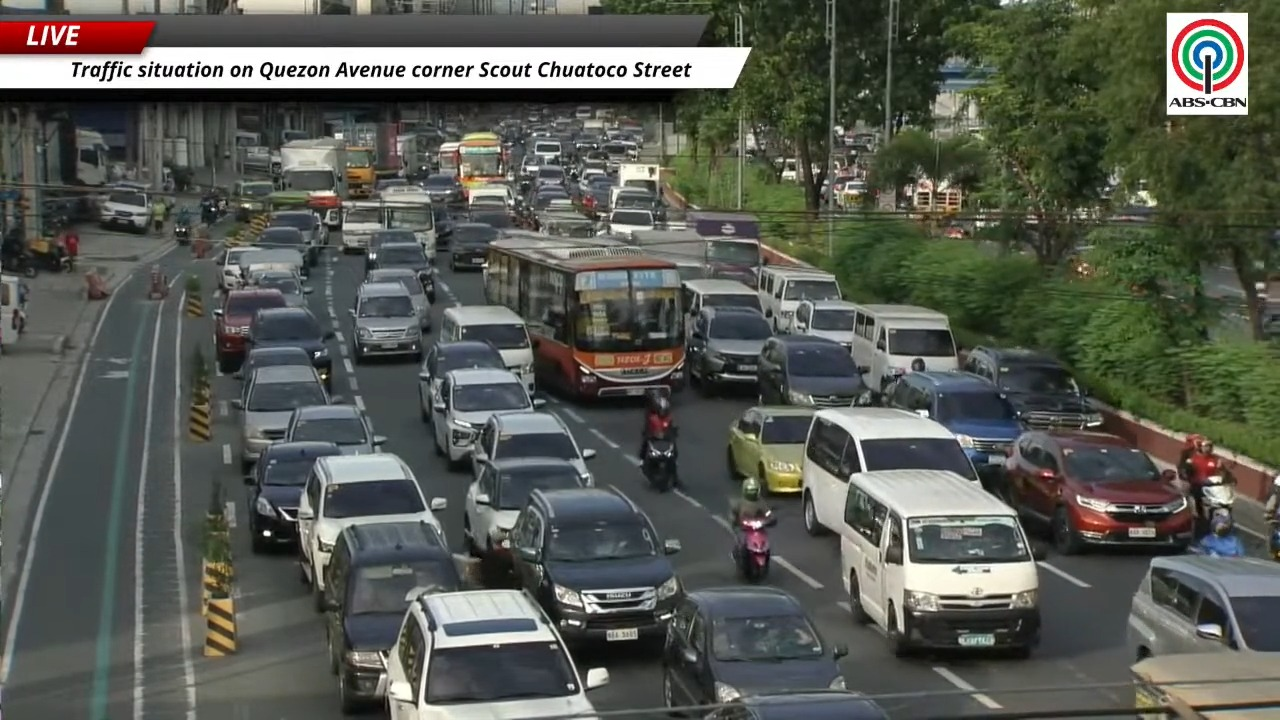bus: (484, 231, 684, 399), (458, 132, 505, 187), (436, 143, 458, 175)
car: (387, 590, 608, 719), (325, 522, 462, 713), (511, 489, 682, 642), (1004, 430, 1194, 554), (297, 453, 446, 611), (662, 586, 847, 707), (1127, 554, 1279, 661), (882, 372, 1023, 484), (463, 458, 584, 562), (962, 346, 1102, 428), (430, 368, 544, 468), (245, 441, 340, 552), (232, 366, 329, 470), (472, 412, 595, 485), (757, 335, 876, 406), (686, 307, 772, 395), (727, 406, 813, 493), (418, 340, 505, 422), (212, 288, 287, 372), (246, 307, 333, 373), (351, 283, 422, 362), (704, 689, 889, 719), (284, 404, 386, 454), (365, 267, 431, 331), (365, 241, 434, 301), (793, 300, 856, 351), (268, 210, 327, 258), (234, 346, 313, 379), (255, 225, 317, 266), (450, 222, 500, 271), (365, 229, 420, 271), (100, 188, 151, 232), (215, 246, 261, 292), (252, 271, 311, 306), (230, 180, 275, 221), (419, 174, 463, 204), (467, 207, 513, 229), (433, 205, 454, 249), (533, 166, 565, 185), (375, 177, 407, 192)
motorcycle: (733, 512, 775, 582), (642, 437, 677, 492), (1201, 473, 1235, 524), (28, 238, 73, 272), (0, 251, 37, 278), (1268, 518, 1280, 562), (173, 224, 190, 244)
truck: (271, 138, 348, 228), (39, 120, 109, 186), (344, 122, 402, 182), (611, 163, 661, 205)
